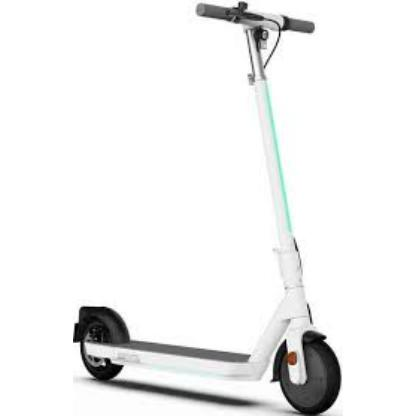bike: (69, 2, 344, 415)
